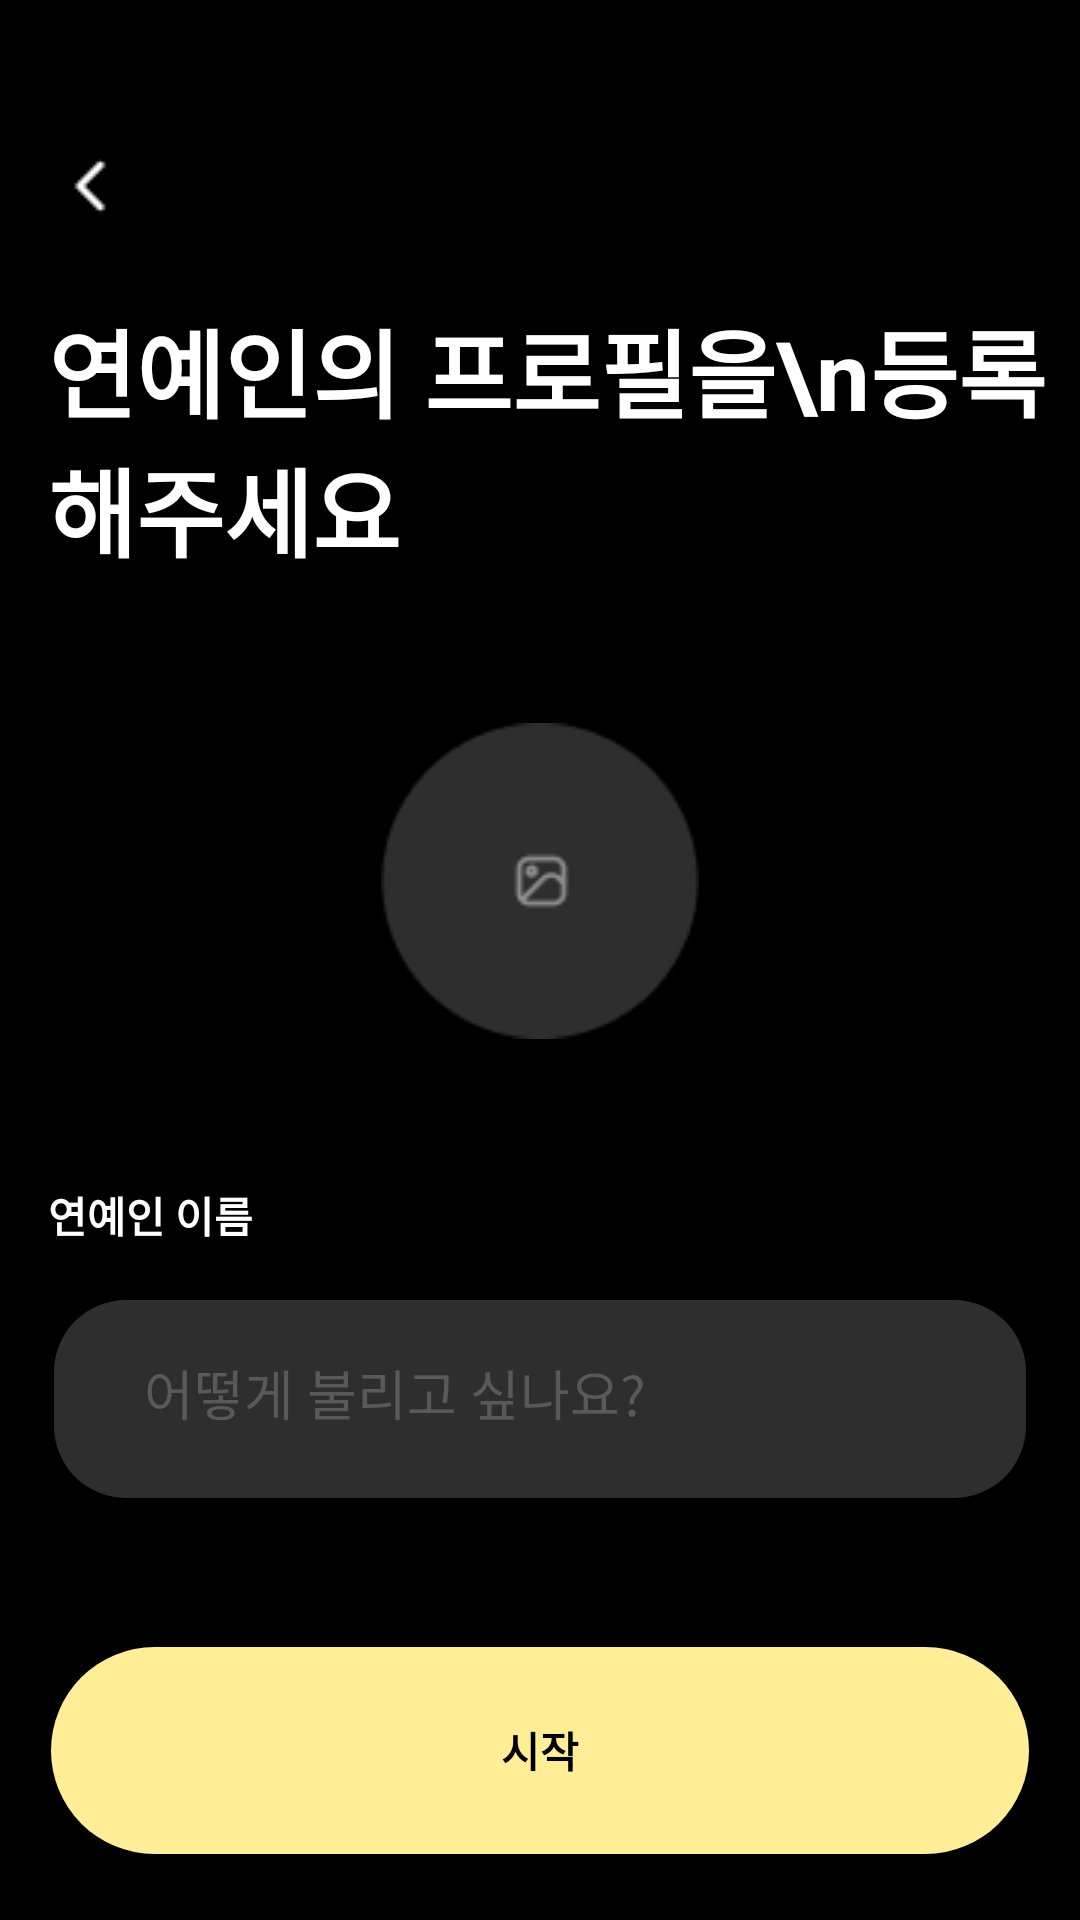

Icons on this 1080 x 1920 Android screen, each with its box as {"x1": x1, "y1": y1, "x2": x2, "y2": y2}:
addimage: {"x1": 383, "y1": 723, "x2": 697, "y2": 1039}
backbtn: {"x1": 74, "y1": 160, "x2": 106, "y2": 212}
